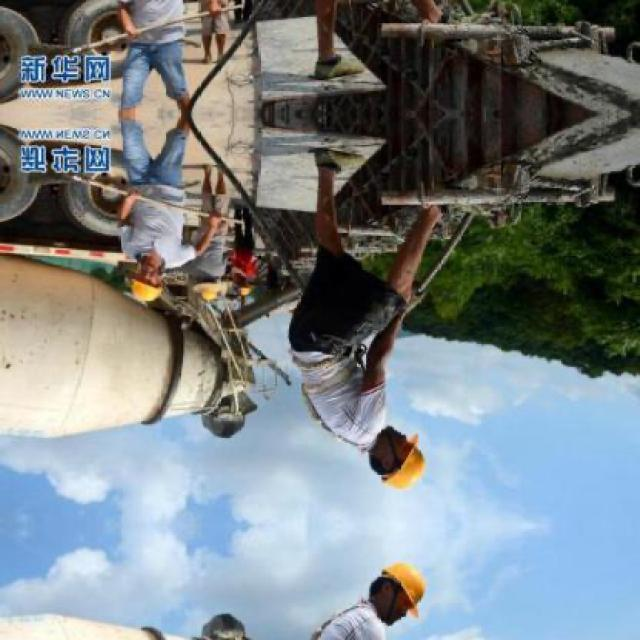con casco: (339, 410, 429, 512), (82, 246, 196, 310)
